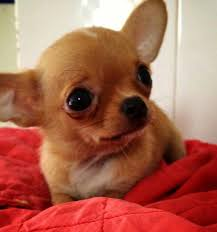chihuahua: (1, 2, 189, 211)
